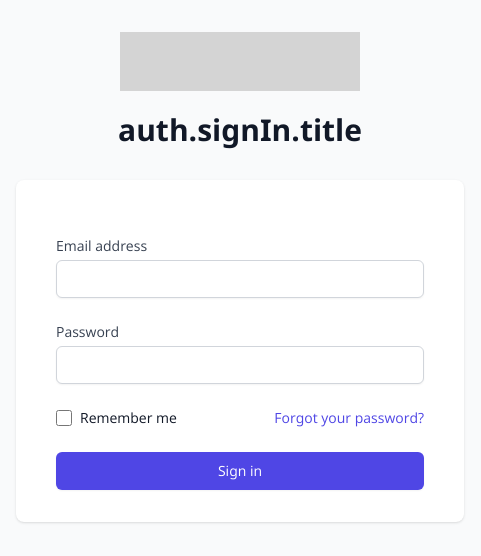
Sign in › should not display error when value is valid but promise is not success
Type "demo@mail.com" into the field labelled "Email address" at [240, 279], box [56,260,424,298]
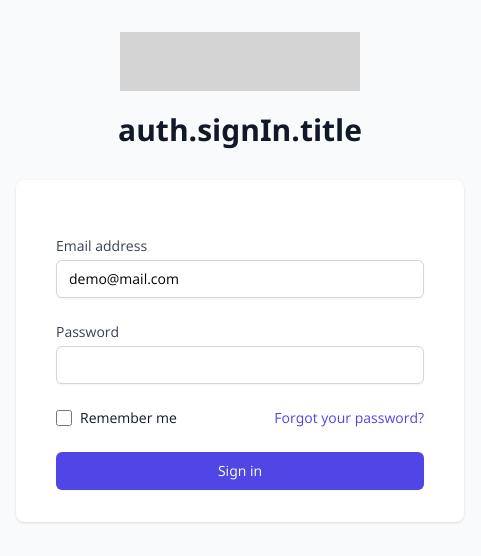
Type "123456" into the password field labelled "Password" at [240, 365], box [56,346,424,384]
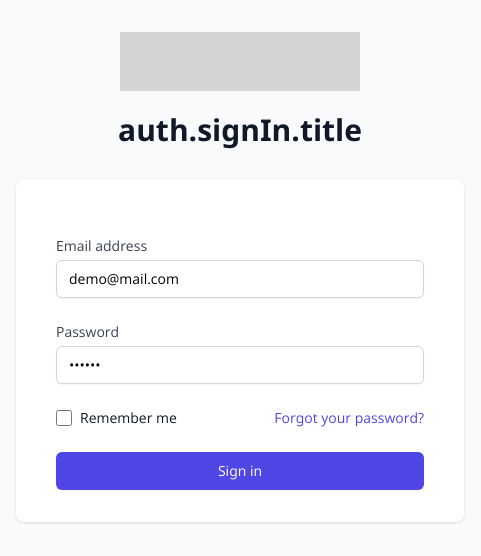
Submit the form from the button "Sign in", box [56,452,424,490]
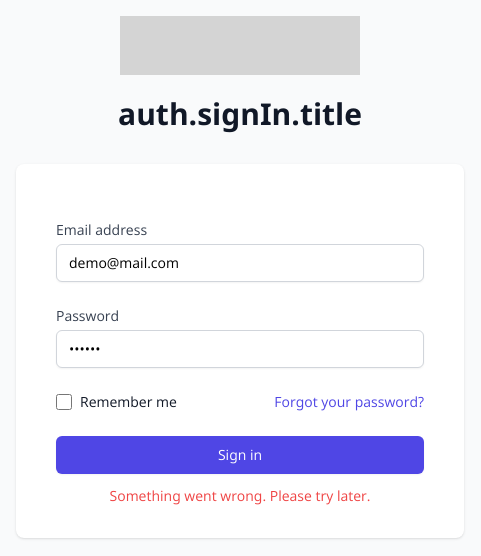
Result: the text "Something went wrong. Please try later." is shown at [110,486,370,505]
